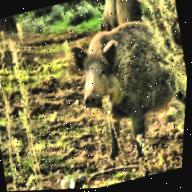boar: (49, 0, 192, 173)
